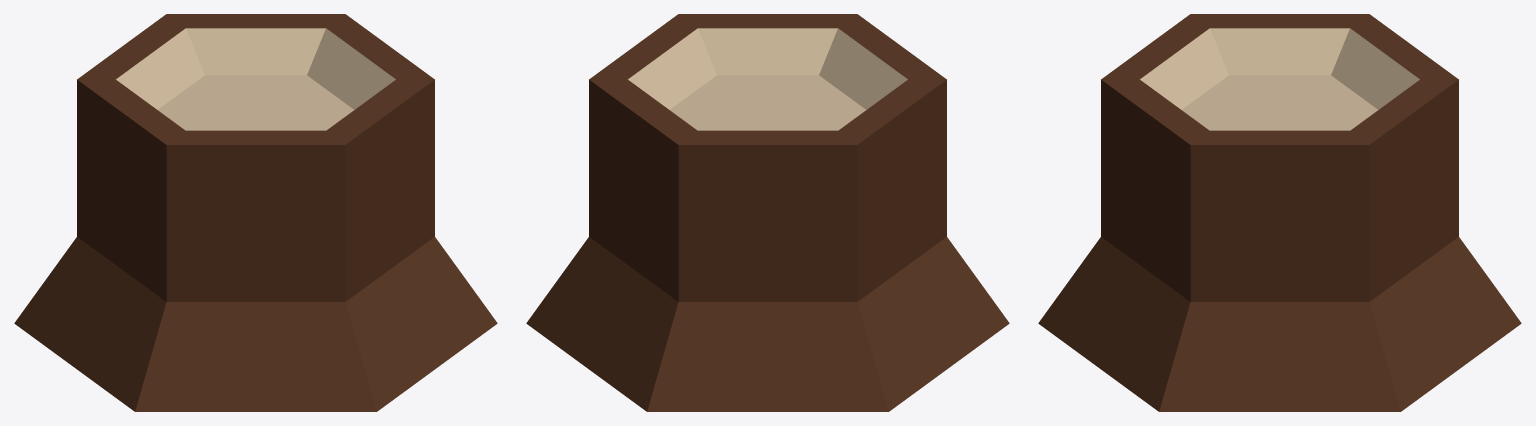
The model's file is stump_round.glb.
3 views of the same model, side by side, from view 1: azimuth 30°, elevation 25°; view 2: azimuth 150°, elevation 25°; view 3: azimuth 270°, elevation 25° (orthographic).
Visible parts, largest first — view 1: stump_round; view 2: stump_round; view 3: stump_round.
Part boxes in pixels (left/top/right/bottom): stump_round: left=14, top=14, right=497, bottom=411; stump_round: left=526, top=14, right=1009, bottom=411; stump_round: left=1038, top=14, right=1521, bottom=411.
Size of the model in its own units: 0.3213 by 0.2065 by 0.371.
